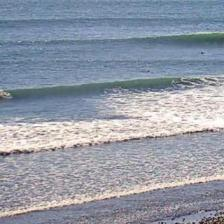surfer: (146, 70, 150, 72), (201, 52, 205, 54)
